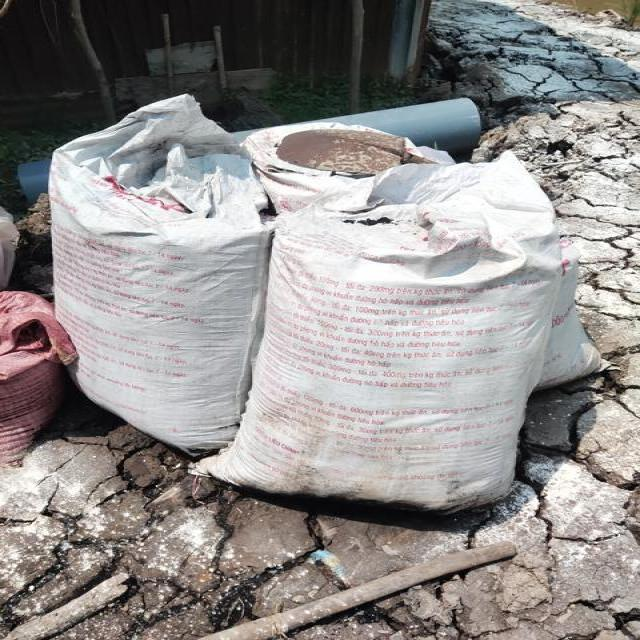gunny_bag: (205, 154, 560, 512), (48, 94, 271, 452)
